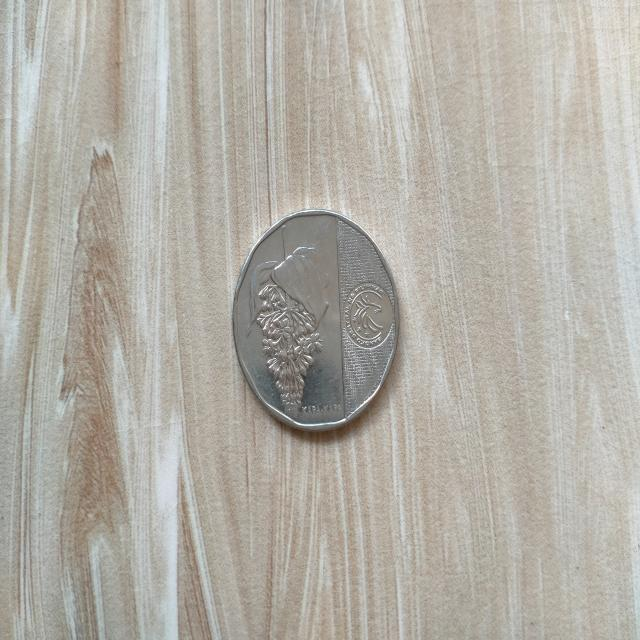10_New_Back: (248, 219, 334, 427)
